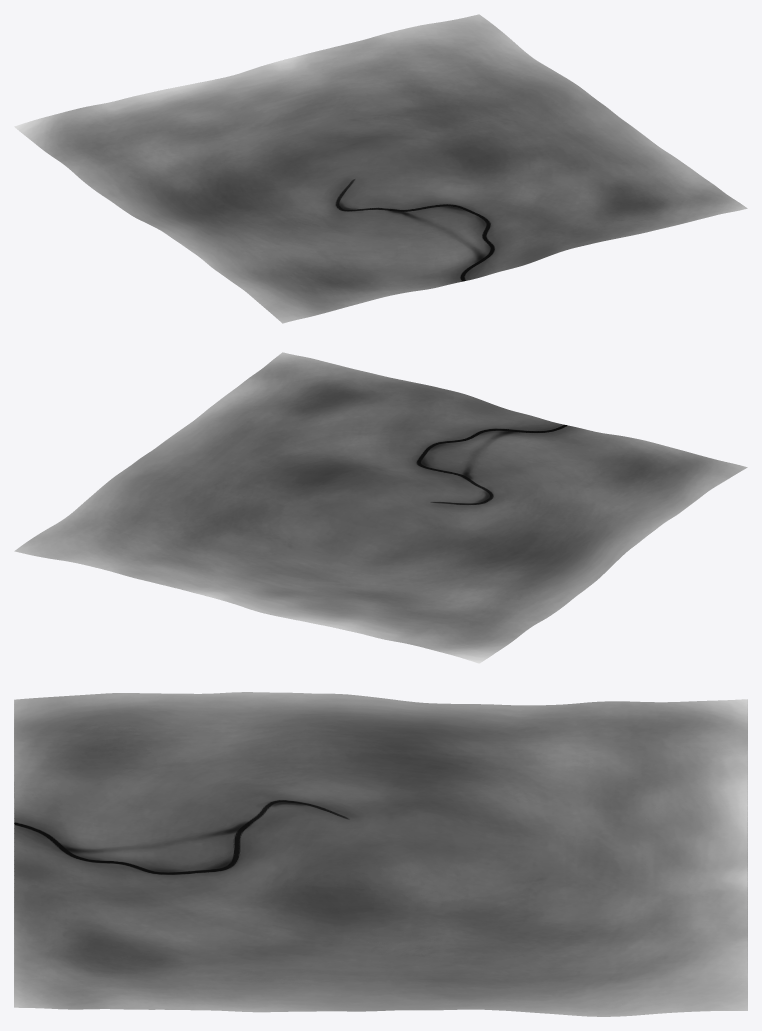
Rendered from GroundPlane.glb.
The picture shows the model from 3 angles, top to bottom: view 1: azimuth 30°, elevation 25°; view 2: azimuth 150°, elevation 25°; view 3: azimuth 270°, elevation 25°; orthographic projection. The views are drawn at different scales.
Visible parts, largest first — view 1: Plane; view 2: Plane; view 3: Plane.
Part boxes in pixels (left/top/right/bottom): Plane: left=14, top=14, right=747, bottom=323; Plane: left=14, top=352, right=747, bottom=663; Plane: left=14, top=692, right=747, bottom=1016.
Bounding box in the file's own units: 500 × 18.39 × 500.
Materials: 1 (1 with a texture image).
